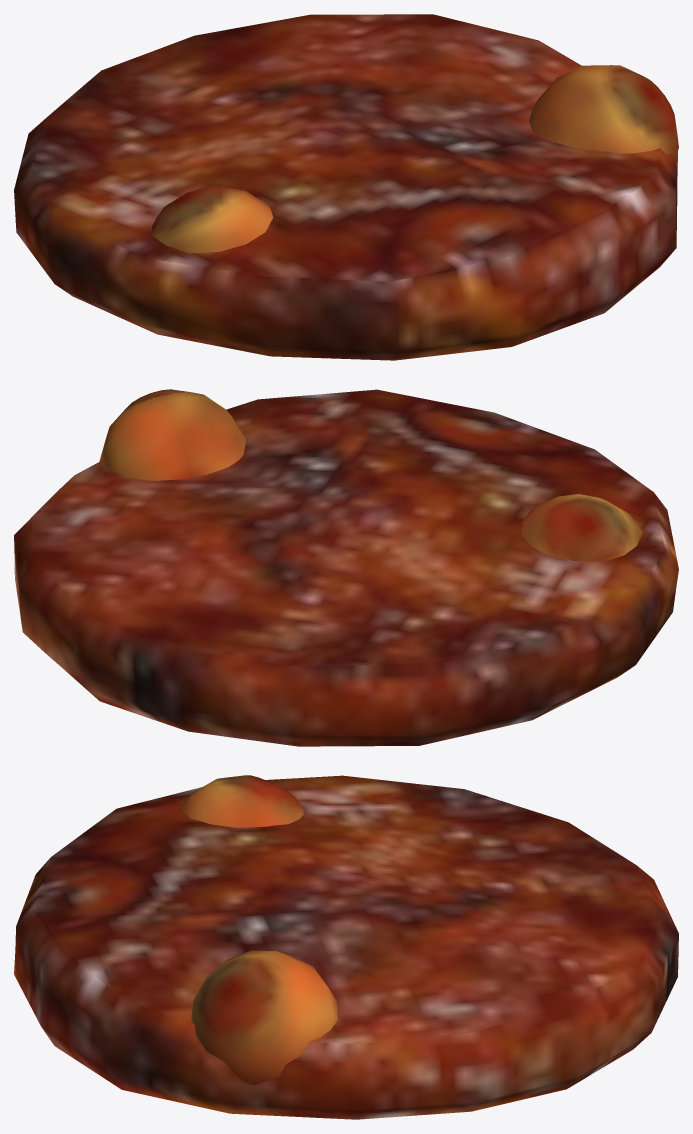
The model's file is human_cutlet_fried.fbx.
The picture shows the model from 3 angles, top to bottom: view 1: azimuth 30°, elevation 25°; view 2: azimuth 150°, elevation 25°; view 3: azimuth 270°, elevation 25°; orthographic projection.
Parts seen in each view (by area): view 1: human_cutlet_fried; view 2: human_cutlet_fried; view 3: human_cutlet_fried.
Boxes of the visible parts, x1,y1,x2,y2 form: human_cutlet_fried: (14, 14, 678, 360); human_cutlet_fried: (14, 389, 678, 746); human_cutlet_fried: (14, 775, 678, 1119).
Bounding box in the file's own units: 11.66 × 3.04 × 11.6.
